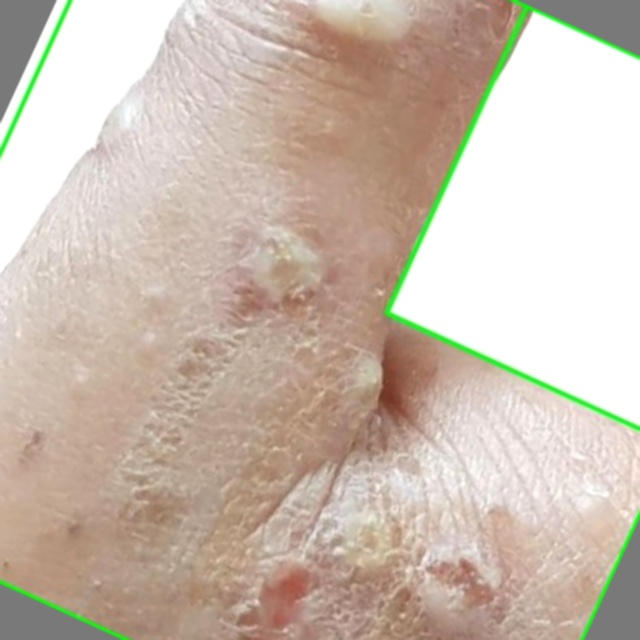Scabies: (0, 0, 639, 639), (386, 5, 639, 428)
